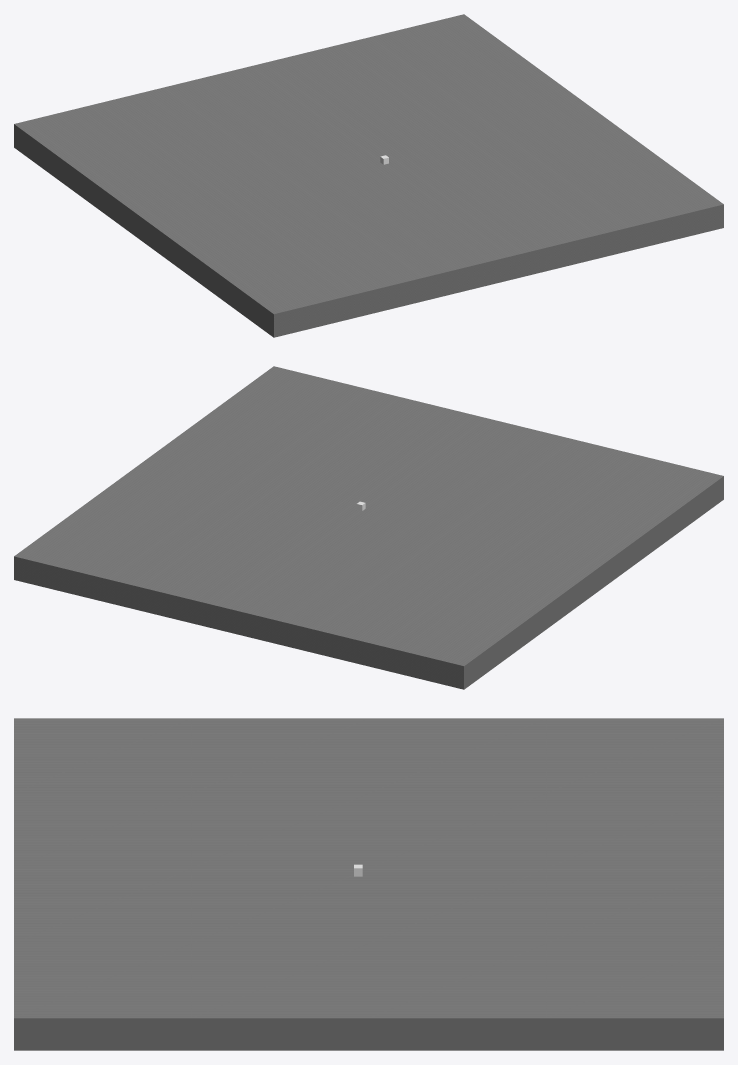
Rendered from jazzar.glb.
3 views of the same model, one above another, from view 1: azimuth 30°, elevation 25°; view 2: azimuth 150°, elevation 25°; view 3: azimuth 270°, elevation 25° (orthographic). The views are drawn at different scales.
Parts seen in each view (by area): view 1: Floor; view 2: Floor; view 3: Floor.
Part boxes in pixels (bbox=[...]): Floor: bbox=[14, 14, 723, 337]; Floor: bbox=[14, 366, 723, 689]; Floor: bbox=[14, 718, 723, 1050].
Size of what is drawn, in the model's own units: 80 by 5.21 by 80.
Materials: 2 (1 with a texture image).
